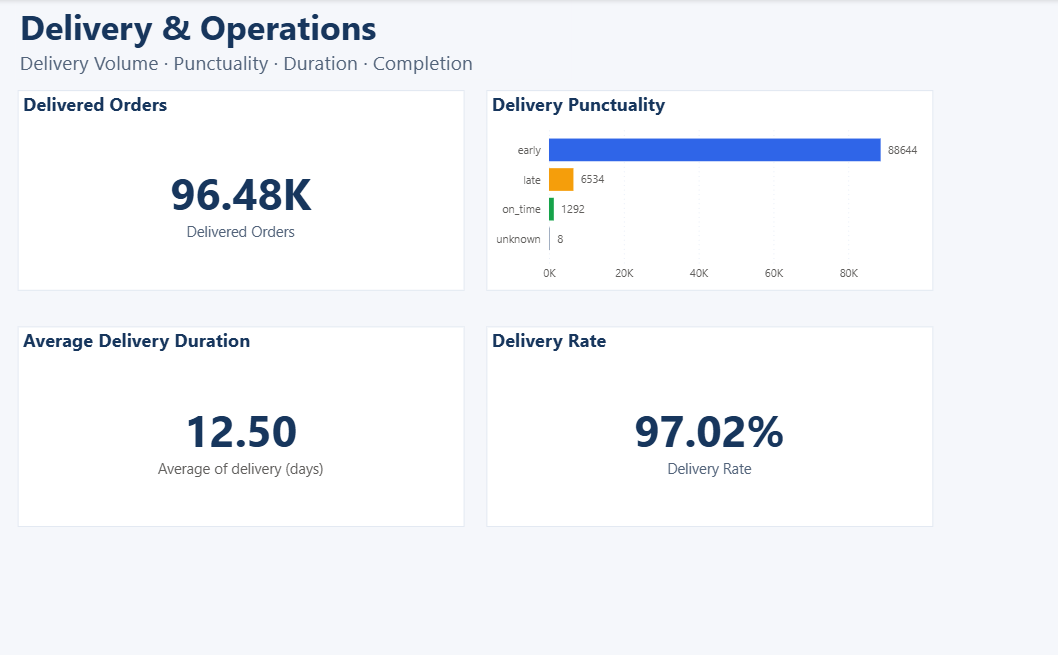

The page's visual inventory and layout, read from the dashboard file:
{"tool":"powerbi","page":{"name":"Delivery & Operations","canvas":[1280,720],"ordinal":2},"visuals":[{"type":"card","title":"Average Delivery Duration ","fields":{"Values":["Avg(gold vw_delivery_performance.delivery_days)"]},"box":[20,360,490,220],"z":0},{"type":"clusteredBarChart","title":"Delivery Punctuality ","fields":{"Category":["gold vw_delivery_performance.delivery_outcome"],"Y":["Count(gold vw_delivery_performance.order_id)"]},"box":[535,100,490,220],"z":1000},{"type":"card","title":"Delivery Rate","fields":{"Values":["gold vw_delivery_performance.Delivery Rate"]},"box":[535,360,490,220],"z":2000},{"type":"card","title":"Delivered Orders","fields":{"Values":["Count(gold vw_delivery_performance.order_id)"]},"box":[20,100,490,220],"z":3000},{"type":"textbox","box":[17.8,0,610.6,89.2],"z":4000}]}

Visuals, with their boxes on the page's 1280x720 design canvas (x1, y1, x2, y2). These are canvas units, not pixel positions in the 1058x655 screenshot, which may show the page scaled, cropped or inside an application window:
"Average Delivery Duration " card: l=20, t=360, r=510, b=580
"Delivery Punctuality " clusteredBarChart: l=535, t=100, r=1025, b=320
"Delivery Rate" card: l=535, t=360, r=1025, b=580
"Delivered Orders" card: l=20, t=100, r=510, b=320
textbox: l=18, t=0, r=628, b=89
